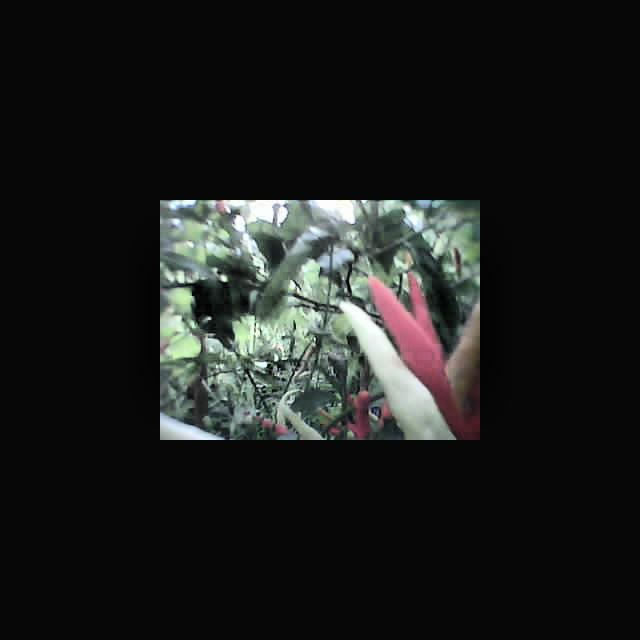Cabai: (373, 280, 437, 324), (342, 391, 377, 440), (254, 416, 281, 433)
